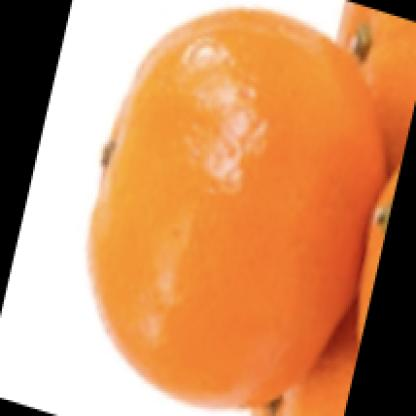fresh: (87, 8, 396, 416)
